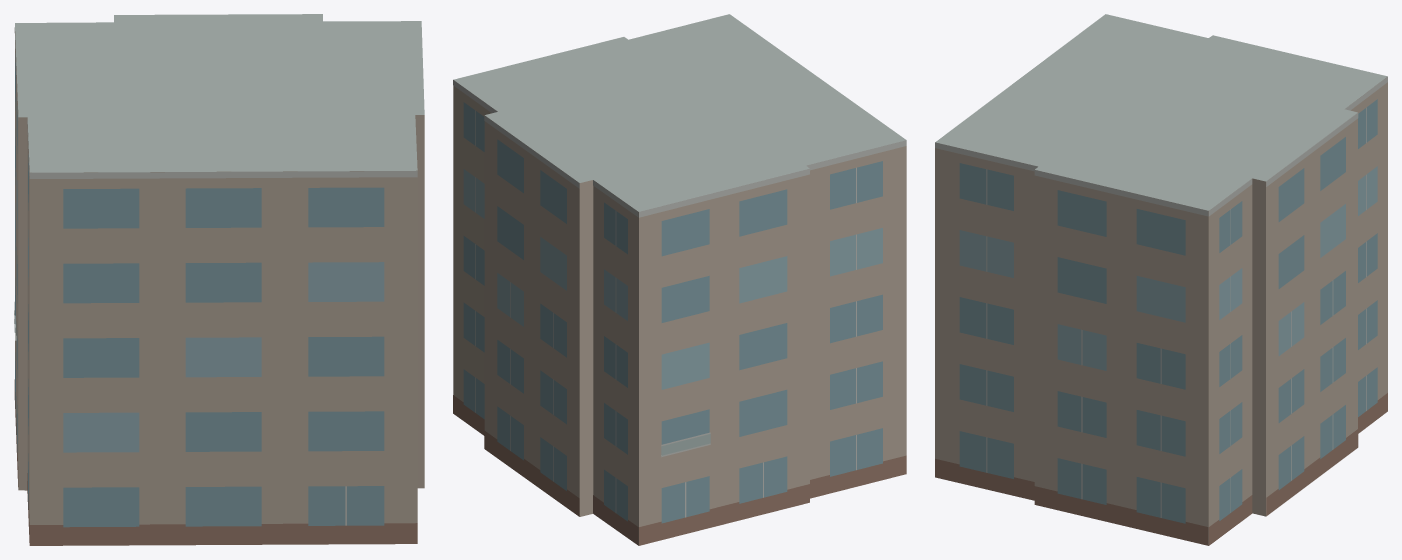
Rendered from survey-upis-32871579.glb.
3 views of the same model, side by side, from view 1: azimuth 30°, elevation 25°; view 2: azimuth 150°, elevation 25°; view 3: azimuth 270°, elevation 25° (orthographic). The views are drawn at different scales.
Parts seen in each view (by area): view 1: survey-upis-32871579.tmp; view 2: survey-upis-32871579.tmp; view 3: survey-upis-32871579.tmp.
Part boxes in pixels (x1,y1,x2,y2): survey-upis-32871579.tmp: (14,14,424,545); survey-upis-32871579.tmp: (453,14,906,545); survey-upis-32871579.tmp: (935,14,1387,545).
Bounding box in the file's own units: 17.9 × 14.2 × 17.4.
